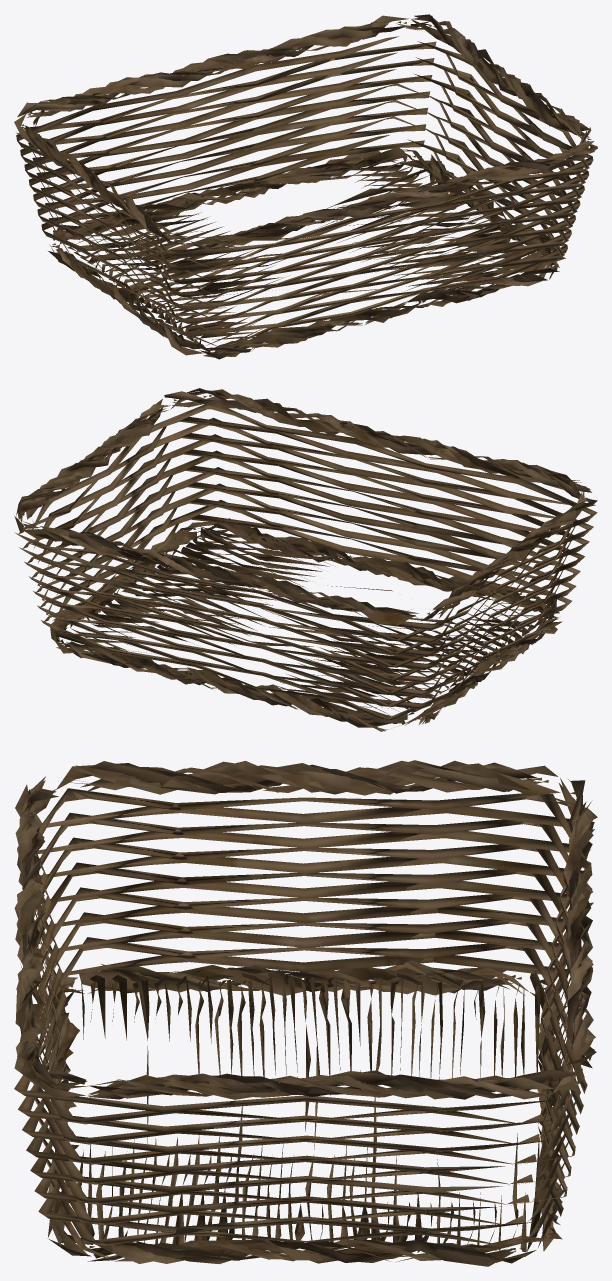
Rendered from wicker_basket_01.glb.
3 views of the same model, one above another, from view 1: azimuth 30°, elevation 25°; view 2: azimuth 150°, elevation 25°; view 3: azimuth 270°, elevation 25° (orthographic). The views are drawn at different scales.
Parts seen in each view (by area): view 1: wicker_basket_01; view 2: wicker_basket_01; view 3: wicker_basket_01.
Part boxes in pixels (left/top/right/bottom): wicker_basket_01: left=14, top=14, right=597, bottom=359; wicker_basket_01: left=14, top=388, right=597, bottom=731; wicker_basket_01: left=14, top=760, right=597, bottom=1266.
Bounding box in the file's own units: 0.3837 × 0.1186 × 0.2933.
1 material, 1 textured.
